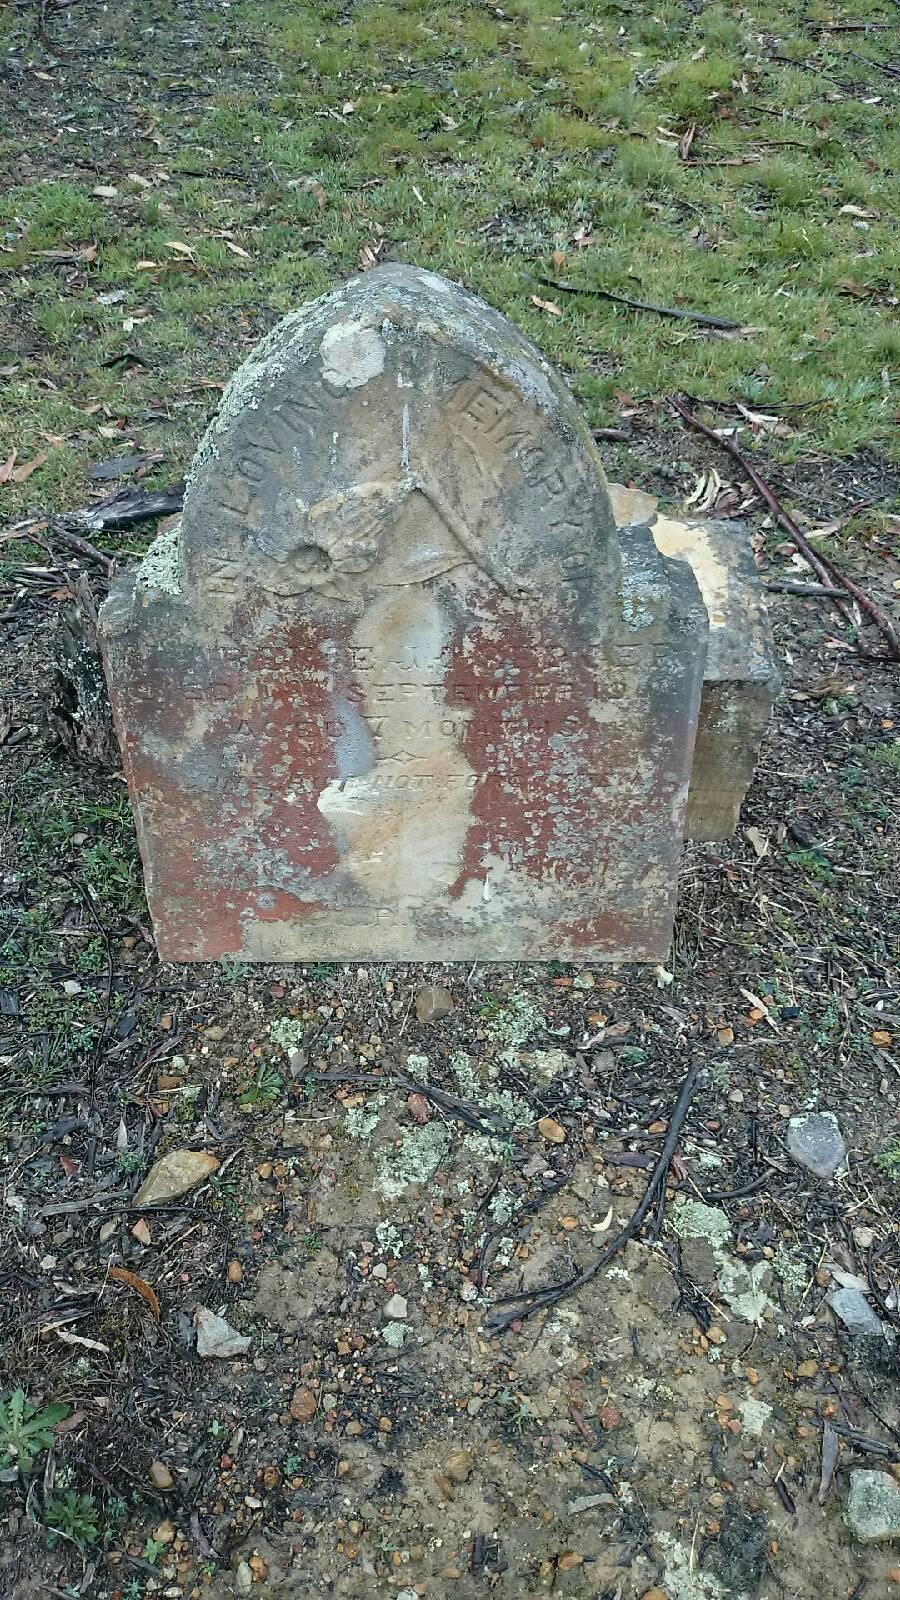upright: (76, 192, 754, 1033)
